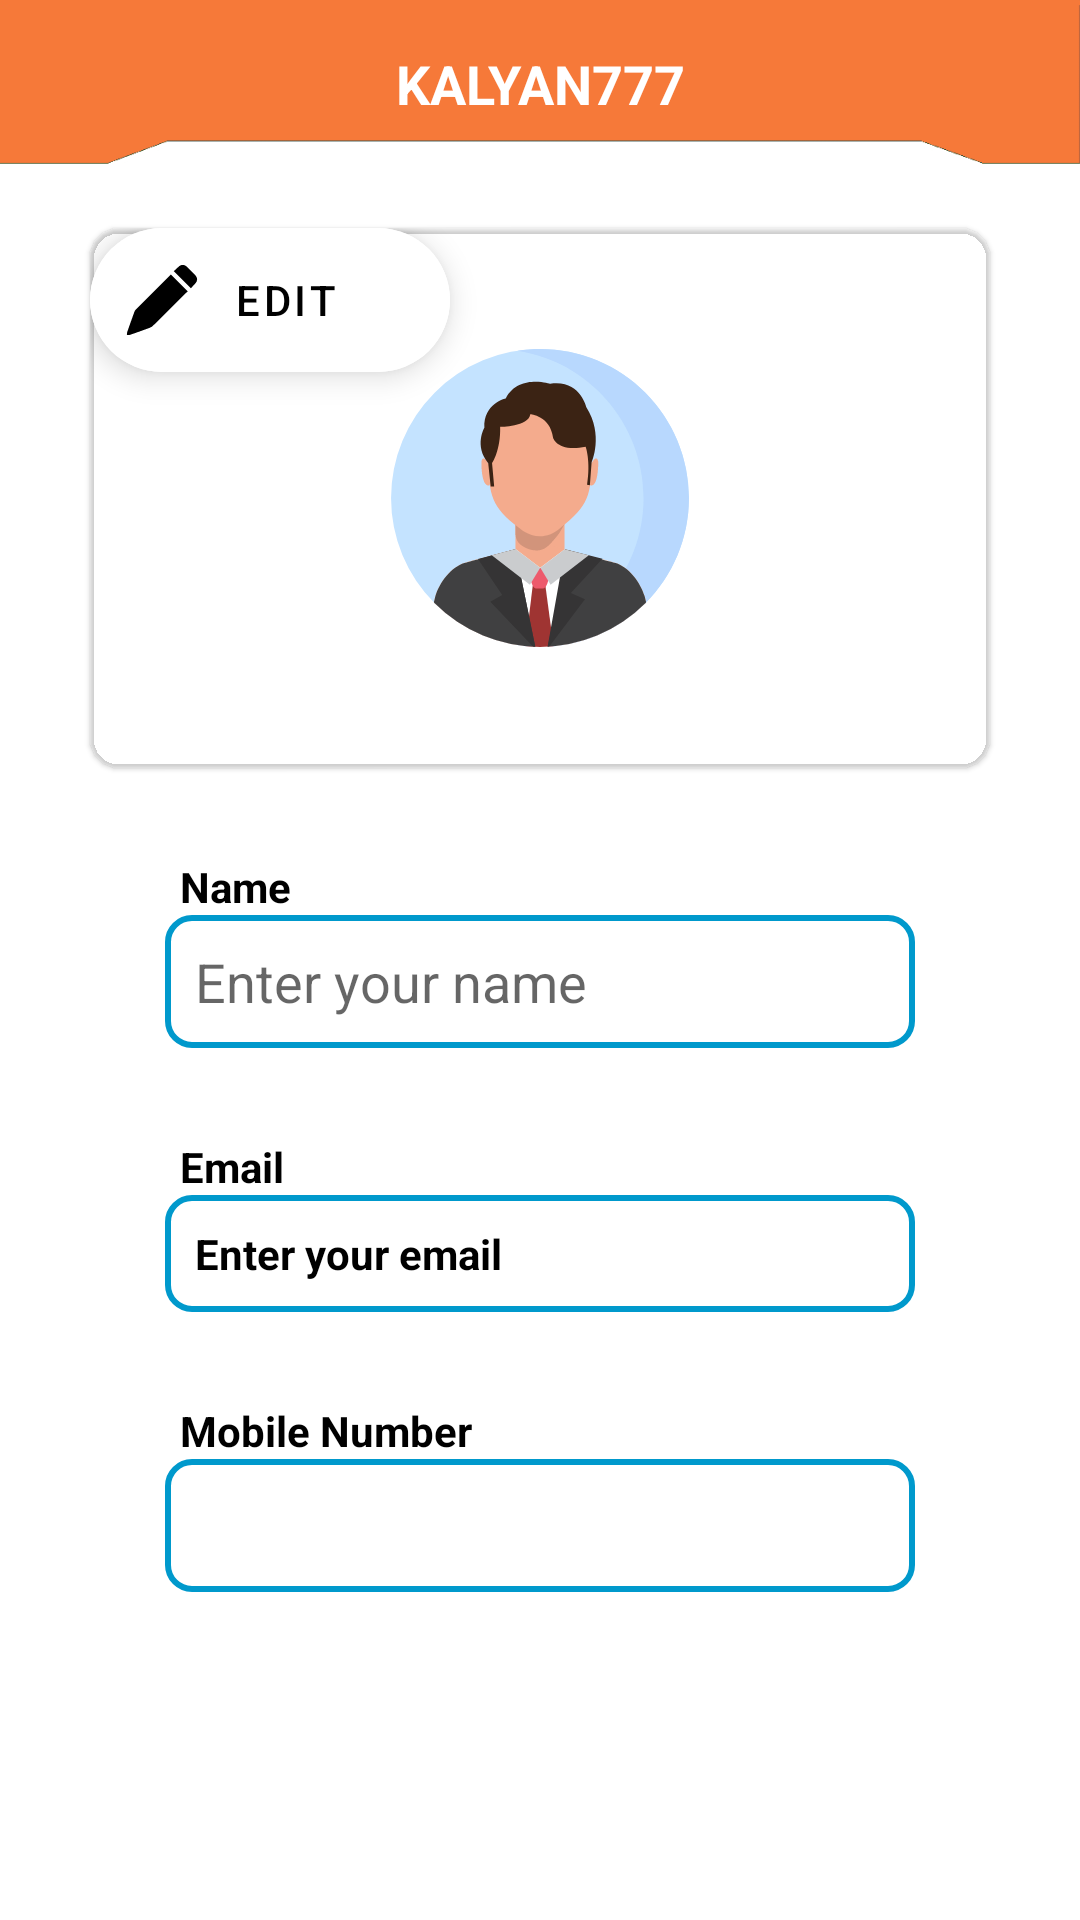

Screen size 1080px x 1920px. Icon name, then its box in pixels as (x1, y1, x2, y2):
profile: (390, 349, 689, 647)
